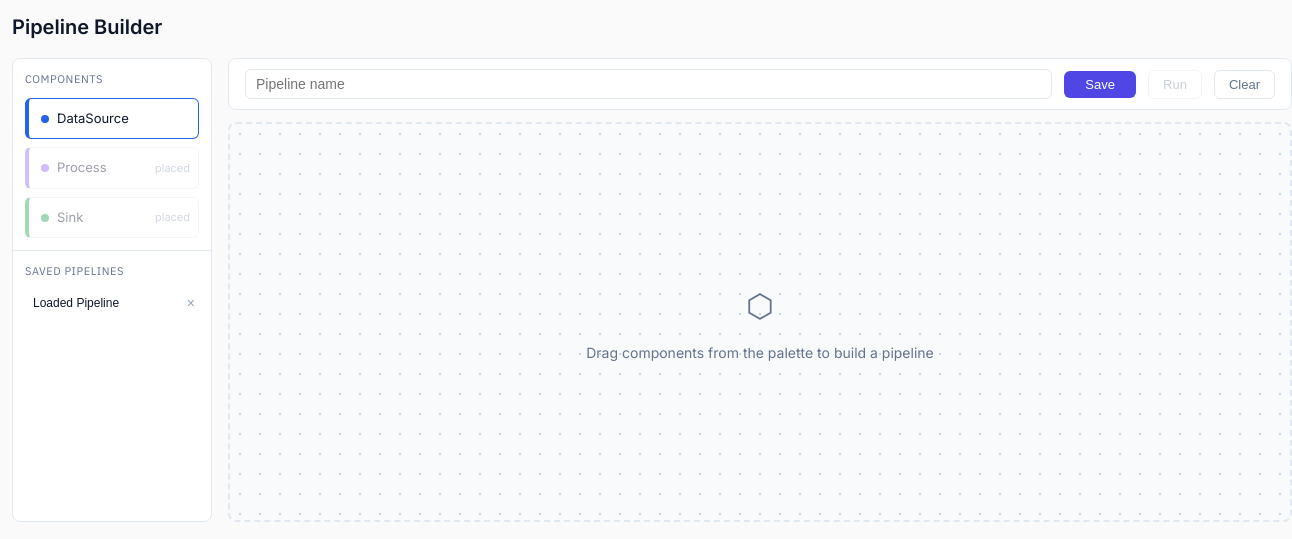
Test: AC2 — edit action loads pipeline onto canvas › updates the pipeline name input after loading a pipeline
The image size is (1292, 539).
Click the button "Loaded Pipeline".
click(102, 302)  # box top-left (25, 290), bottom-right (179, 316)
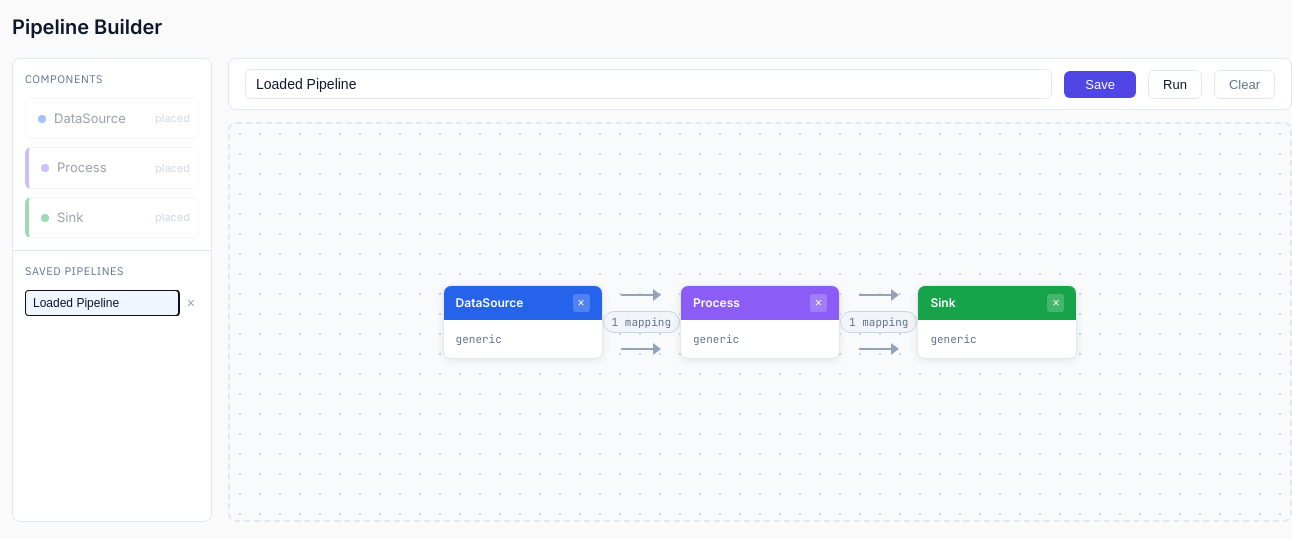
Now the field named "Pipeline name" holds "Loaded Pipeline", box top-left (245, 69), bottom-right (1052, 99)
